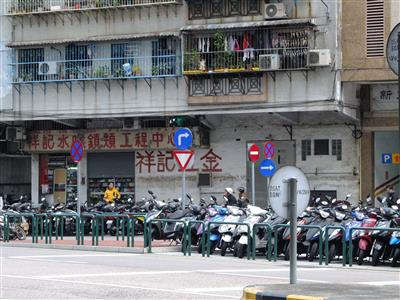noStopping: (69, 137, 85, 164), (262, 140, 275, 158)
rightOnly: (258, 157, 276, 176)
rightTurnOnly: (172, 126, 194, 150)
stop: (246, 141, 259, 162)
yield: (170, 149, 195, 171)
